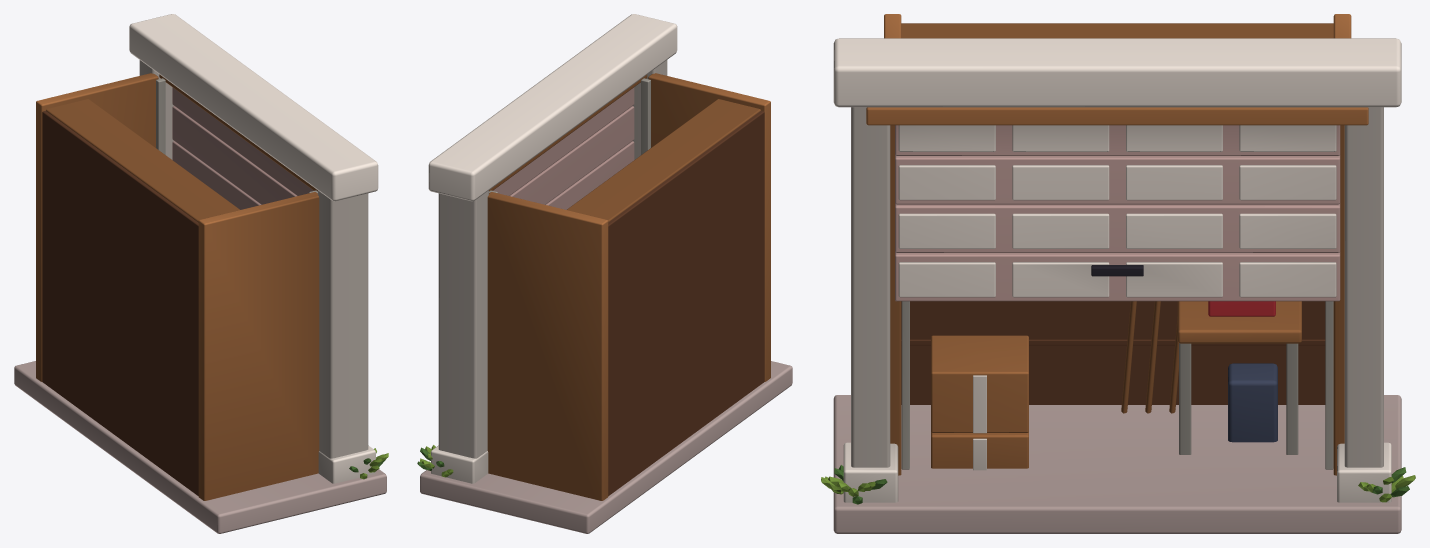
The picture shows the model from 3 angles, left to right: view 1: azimuth 30°, elevation 25°; view 2: azimuth 150°, elevation 25°; view 3: azimuth 270°, elevation 25°; orthographic projection. The views are drawn at different scales.
Parts seen in each view (by area): view 1: root_pal_woodWarm, root_pal_leatherShadow, root_pal_picketWhite, root_pal_sidewalk, door_pal_pocketRose, root_pal_silver; view 2: root_pal_woodWarm, root_pal_leatherShadow, root_pal_picketWhite, root_pal_sidewalk, door_pal_pocketRose, root_pal_silver; view 3: root_pal_picketWhite, root_pal_sidewalk, door_pal_picketWhite, root_pal_woodWarm, door_pal_pocketRose, root_pal_leatherShadow, root_pal_silver, root_pal_denim, root_pal_survivorRed, root_pal_foliage.
Part boxes in pixels (left/top/right/bottom): root_pal_woodWarm: left=36, top=73, right=319, bottom=500; root_pal_leatherShadow: left=42, top=110, right=198, bottom=495; root_pal_picketWhite: left=129, top=14, right=378, bottom=483; root_pal_sidewalk: left=14, top=361, right=386, bottom=533; door_pal_pocketRose: left=172, top=87, right=313, bottom=209; root_pal_silver: left=156, top=78, right=317, bottom=193; root_pal_woodWarm: left=487, top=73, right=770, bottom=500; root_pal_leatherShadow: left=608, top=110, right=764, bottom=495; root_pal_picketWhite: left=428, top=14, right=677, bottom=483; root_pal_sidewalk: left=420, top=361, right=792, bottom=533; door_pal_pocketRose: left=493, top=87, right=634, bottom=209; root_pal_silver: left=489, top=78, right=650, bottom=192; root_pal_picketWhite: left=833, top=38, right=1401, bottom=502; root_pal_sidewalk: left=833, top=395, right=1401, bottom=533; door_pal_picketWhite: left=898, top=125, right=1336, bottom=297; root_pal_woodWarm: left=866, top=14, right=1368, bottom=475; door_pal_pocketRose: left=895, top=125, right=1340, bottom=301; root_pal_leatherShadow: left=901, top=23, right=1333, bottom=404; root_pal_silver: left=901, top=301, right=1333, bottom=469; root_pal_denim: left=1228, top=363, right=1277, bottom=442; root_pal_survivorRed: left=1208, top=301, right=1275, bottom=316; root_pal_foliage: left=821, top=475, right=1415, bottom=502.
Size of the model in its own units: 1.29 by 2.34 by 2.72.
